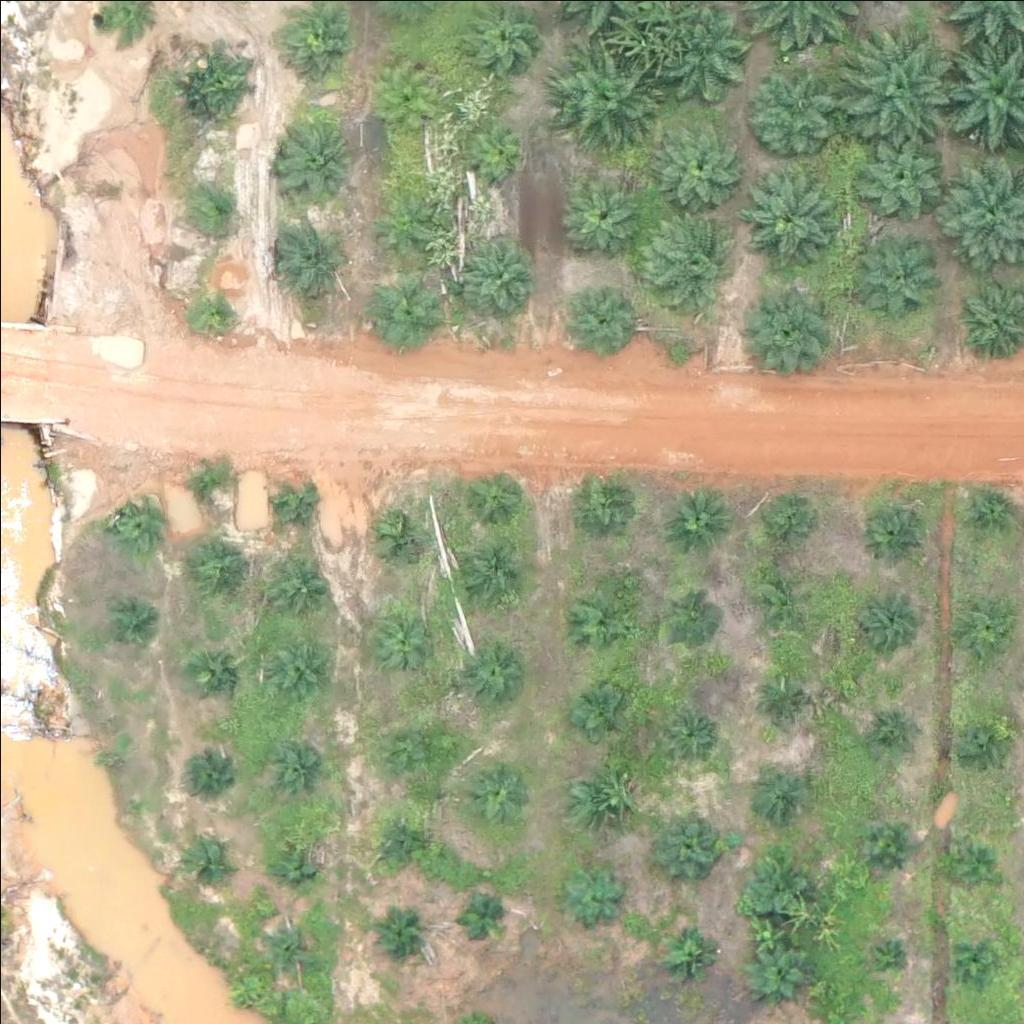Kelapa_Sawit: (830, 30, 955, 156), (558, 44, 658, 144), (636, 208, 736, 308), (741, 175, 841, 275), (747, 70, 835, 158), (739, 286, 827, 374), (858, 130, 946, 218), (651, 119, 738, 208), (663, 13, 750, 101), (452, 231, 539, 319), (557, 174, 644, 262), (860, 230, 947, 318), (274, 221, 349, 297), (564, 276, 639, 352), (183, 40, 258, 116), (274, 124, 349, 200), (282, 7, 357, 82), (382, 707, 445, 770), (267, 731, 330, 794), (659, 914, 722, 977), (655, 814, 718, 877), (668, 487, 731, 550), (269, 634, 332, 697), (859, 504, 922, 567), (948, 597, 1011, 660), (958, 486, 1021, 549), (572, 589, 635, 652), (574, 482, 637, 545), (658, 582, 721, 645), (462, 465, 525, 528), (373, 284, 436, 347), (182, 538, 245, 601), (268, 553, 331, 616), (377, 62, 440, 125), (745, 938, 808, 1001), (952, 708, 1015, 770), (572, 675, 634, 738), (461, 760, 523, 823), (562, 862, 624, 925), (459, 543, 521, 606), (747, 569, 809, 632), (462, 639, 524, 702), (368, 188, 430, 251), (373, 601, 435, 664), (368, 503, 430, 566), (183, 643, 245, 706), (744, 849, 806, 912), (566, 762, 628, 825), (752, 488, 814, 550), (469, 123, 531, 185), (856, 583, 918, 645), (268, 480, 318, 531), (182, 459, 232, 510), (861, 694, 911, 744), (759, 762, 809, 812), (751, 669, 801, 719), (668, 706, 718, 756), (865, 822, 915, 872), (179, 745, 229, 795), (372, 914, 422, 964), (454, 889, 504, 939), (947, 842, 997, 892), (265, 919, 315, 969), (269, 834, 319, 884), (183, 835, 233, 885), (111, 494, 161, 544), (101, 599, 151, 649), (189, 286, 239, 336), (193, 179, 243, 229), (375, 810, 425, 860), (861, 930, 911, 980), (948, 934, 998, 984)
